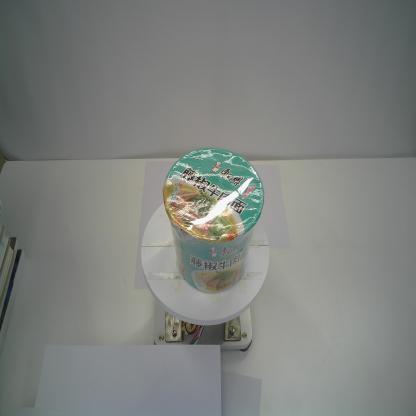Instant Noodles: (161, 146, 267, 296)
